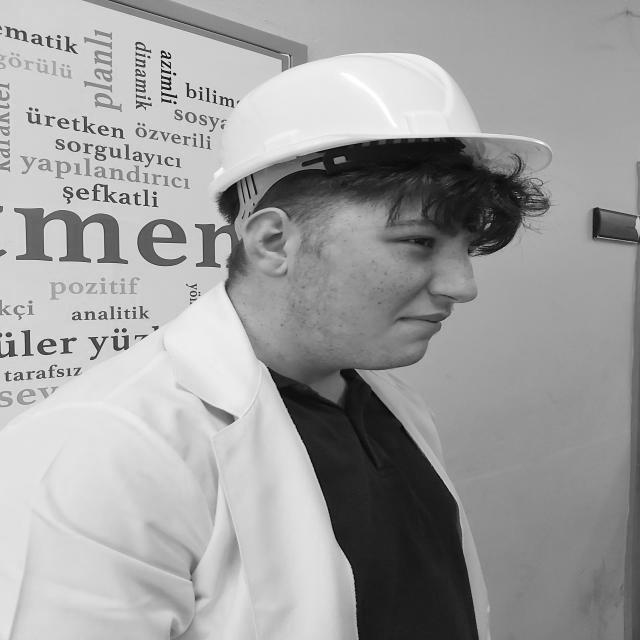construction helmet: (211, 52, 553, 228)
